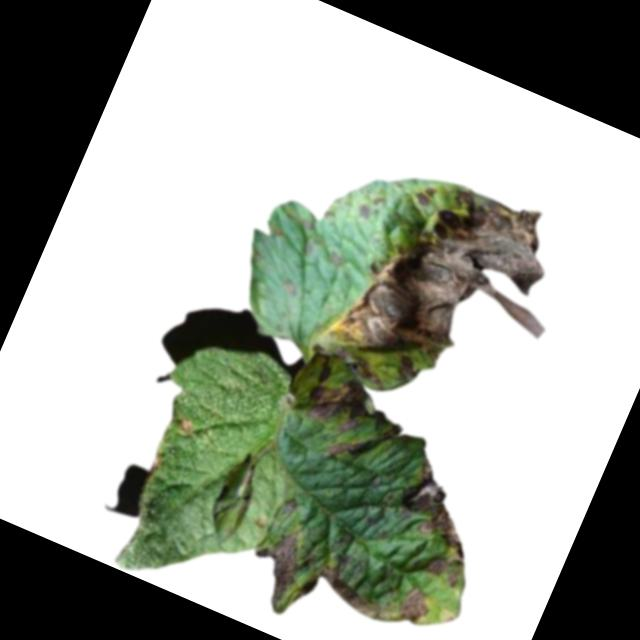Early_blight: (322, 157, 589, 437), (370, 453, 502, 593), (285, 362, 411, 480), (291, 552, 393, 634), (239, 520, 312, 611), (394, 581, 438, 630), (171, 415, 198, 439), (145, 451, 164, 475), (280, 496, 299, 516)
